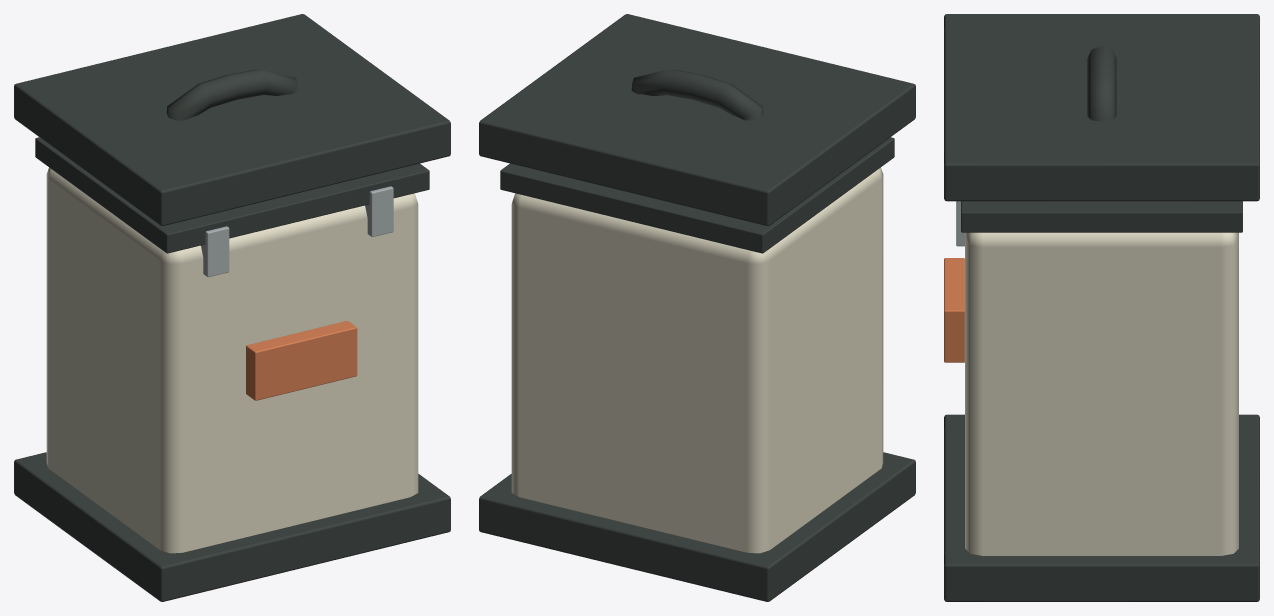
Rendered from extraction-routes-and-objectives-specimen-transport-ca-28e51750__22150.glb.
The picture shows the model from 3 angles, left to right: view 1: azimuth 30°, elevation 25°; view 2: azimuth 150°, elevation 25°; view 3: azimuth 270°, elevation 25°; orthographic projection. The views are drawn at different scales.
Parts seen in each view (by area): view 1: specimen-transport-case, lid/dark; view 2: specimen-transport-case, lid/dark; view 3: specimen-transport-case, lid/dark.
Part boxes in pixels (<box>): specimen-transport-case: <box>14,14,450,601</box>; lid/dark: <box>35,137,429,253</box>; specimen-transport-case: <box>479,14,915,601</box>; lid/dark: <box>500,137,894,253</box>; specimen-transport-case: <box>944,14,1259,601</box>; lid/dark: <box>961,201,1242,232</box>.
Bounding box in the file's own units: 0.34 × 0.4908 × 0.3.
